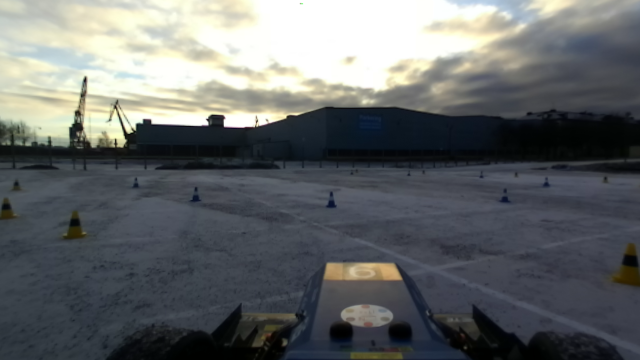blue: (323, 191, 336, 209), (498, 186, 510, 205), (188, 185, 200, 203), (129, 174, 140, 189), (540, 175, 551, 189)
yellow: (610, 244, 639, 289), (60, 209, 87, 240), (597, 172, 609, 183)
